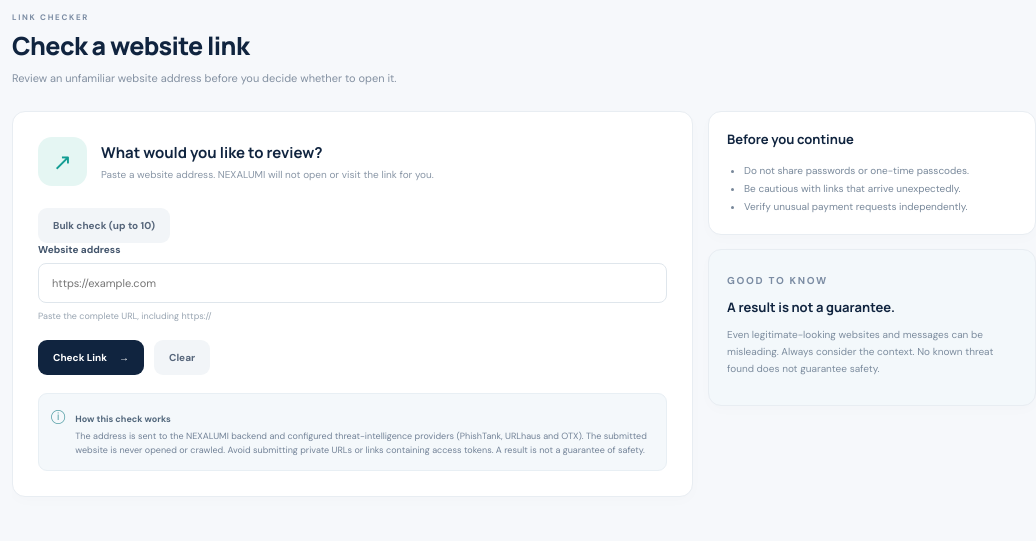
LinkChecker page › rejects unsupported protocols without calling the API
Step 1. Type "javascript:alert(1)" into the field labelled "Website address Paste the complete URL, including https://" → (353, 283), box [38,263,667,303]
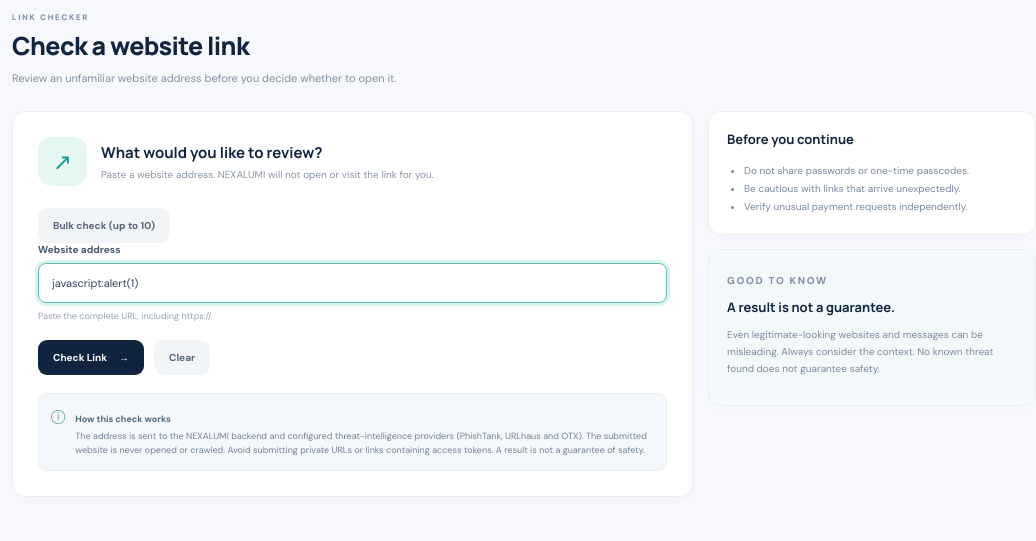
Step 2. Click the button "Check Link →" → (91, 358), box [38,340,144,375]
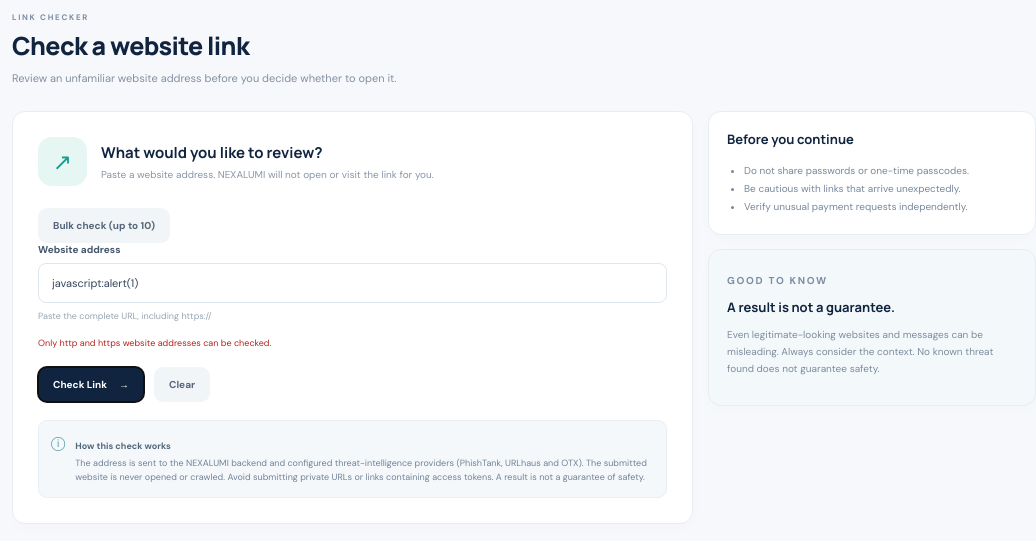
expect the message shows "http and https": met, box [38,337,271,349]
